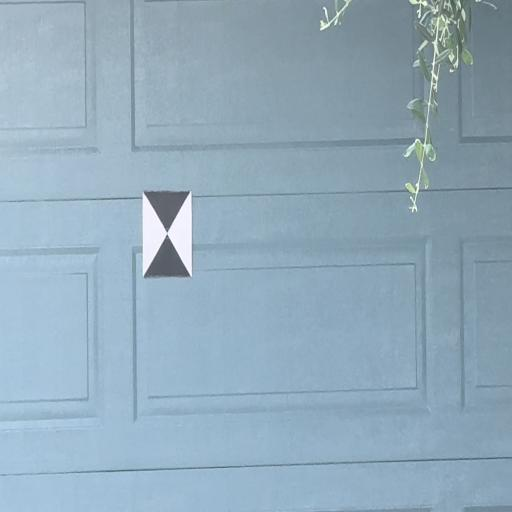target: (142, 192, 192, 277)
